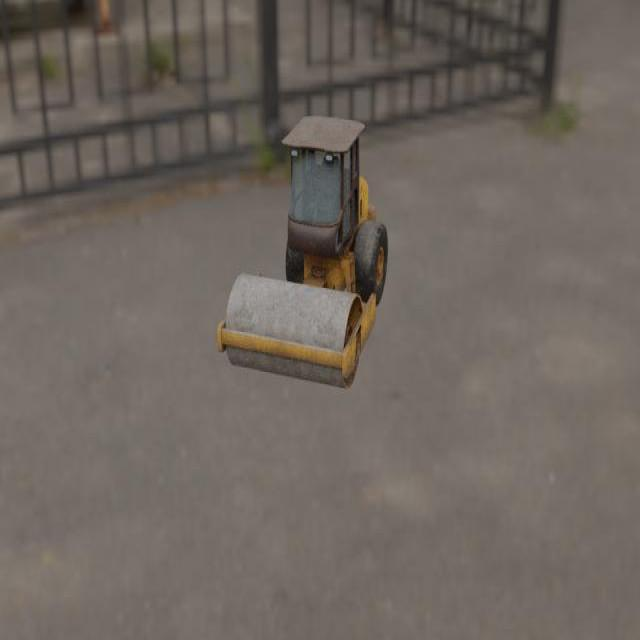Roller: (216, 116, 388, 389)
